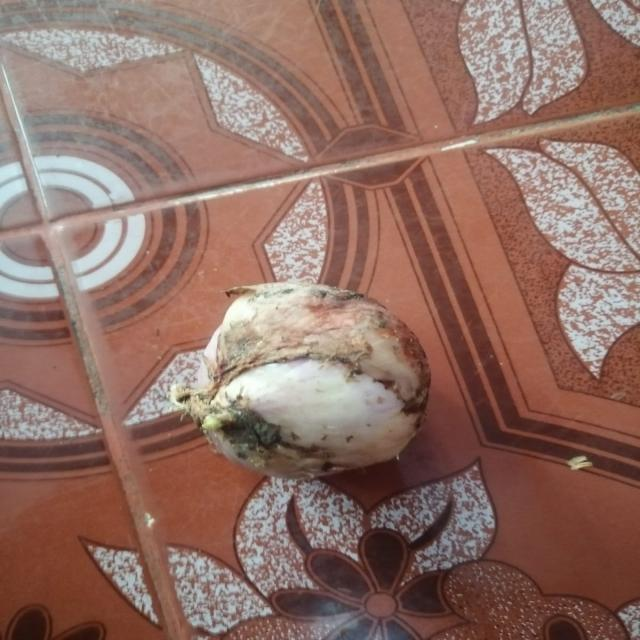rotten: (253, 292, 430, 395)
